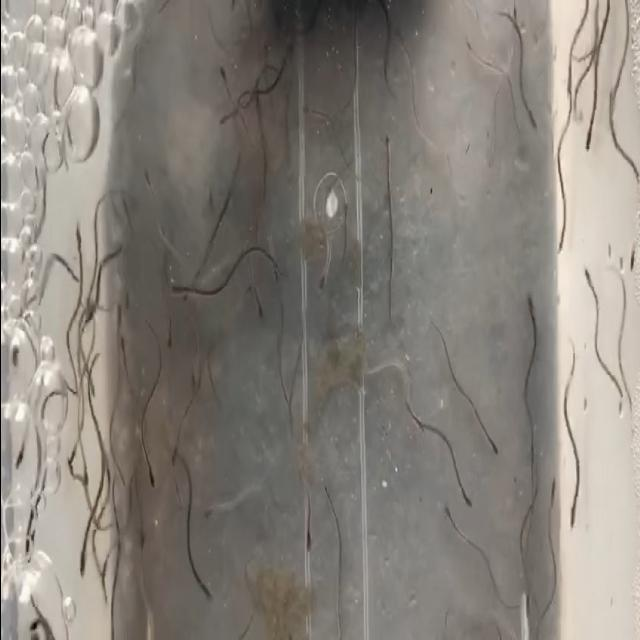active_glass_eel: (10, 309, 28, 371), (166, 270, 192, 308), (66, 422, 84, 464), (194, 565, 214, 601), (132, 516, 149, 558), (555, 210, 569, 256), (15, 423, 29, 469), (76, 536, 90, 580), (168, 427, 182, 469), (165, 316, 178, 361), (382, 135, 398, 171), (215, 98, 233, 130), (562, 71, 580, 103), (547, 471, 559, 518), (624, 232, 638, 272), (142, 448, 156, 488), (250, 73, 264, 112), (218, 63, 234, 97), (201, 492, 219, 522), (252, 274, 264, 318), (484, 424, 500, 456), (568, 488, 580, 530), (72, 218, 84, 260), (118, 332, 130, 374), (302, 526, 314, 566), (318, 246, 328, 294), (604, 91, 617, 126), (142, 160, 154, 197), (585, 105, 595, 148), (67, 453, 79, 488), (584, 267, 598, 296), (528, 296, 538, 336), (24, 616, 44, 636), (463, 32, 478, 58), (238, 278, 254, 302), (524, 105, 537, 133), (442, 502, 458, 524), (114, 295, 124, 327), (457, 487, 472, 507)
